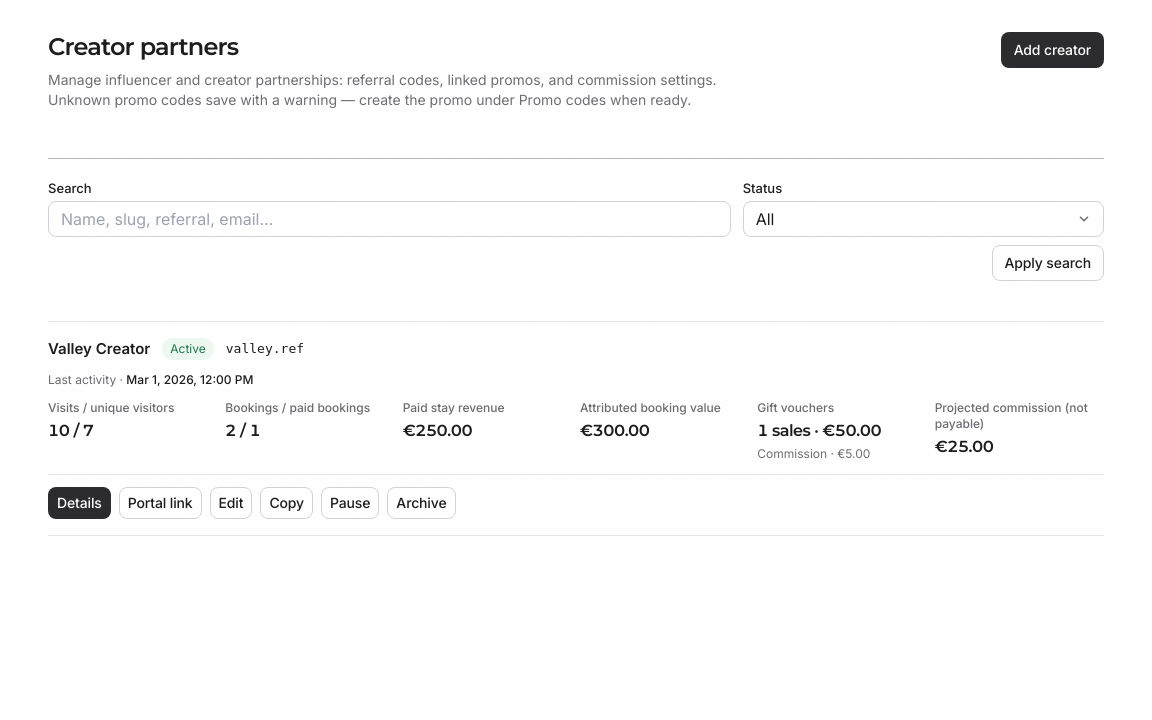
Test: OpsCreatorPartners migration › generates a portal link via OpsModal without inventing new APIs
Click the button "Portal link" at (160, 503), box x1=119 y1=487 x2=202 y2=519
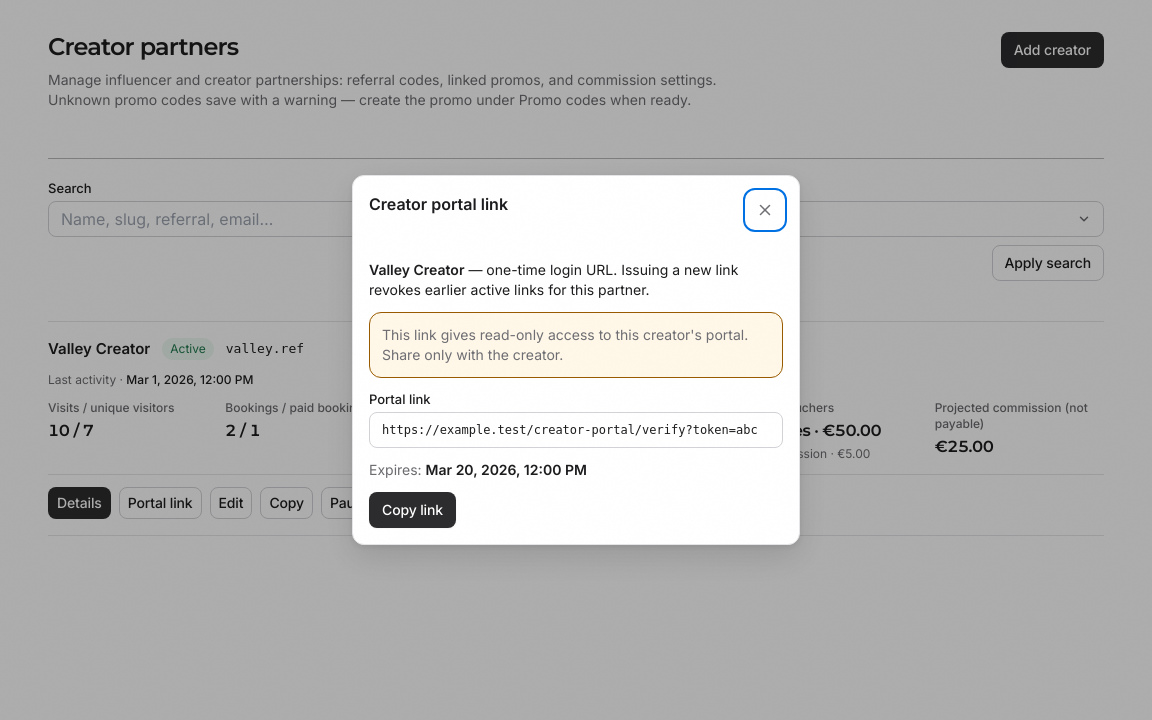
Expected: the field labelled "Portal link" holds "https://example.test/creator-portal/verify?token=abc", x1=369 y1=412 x2=783 y2=448
